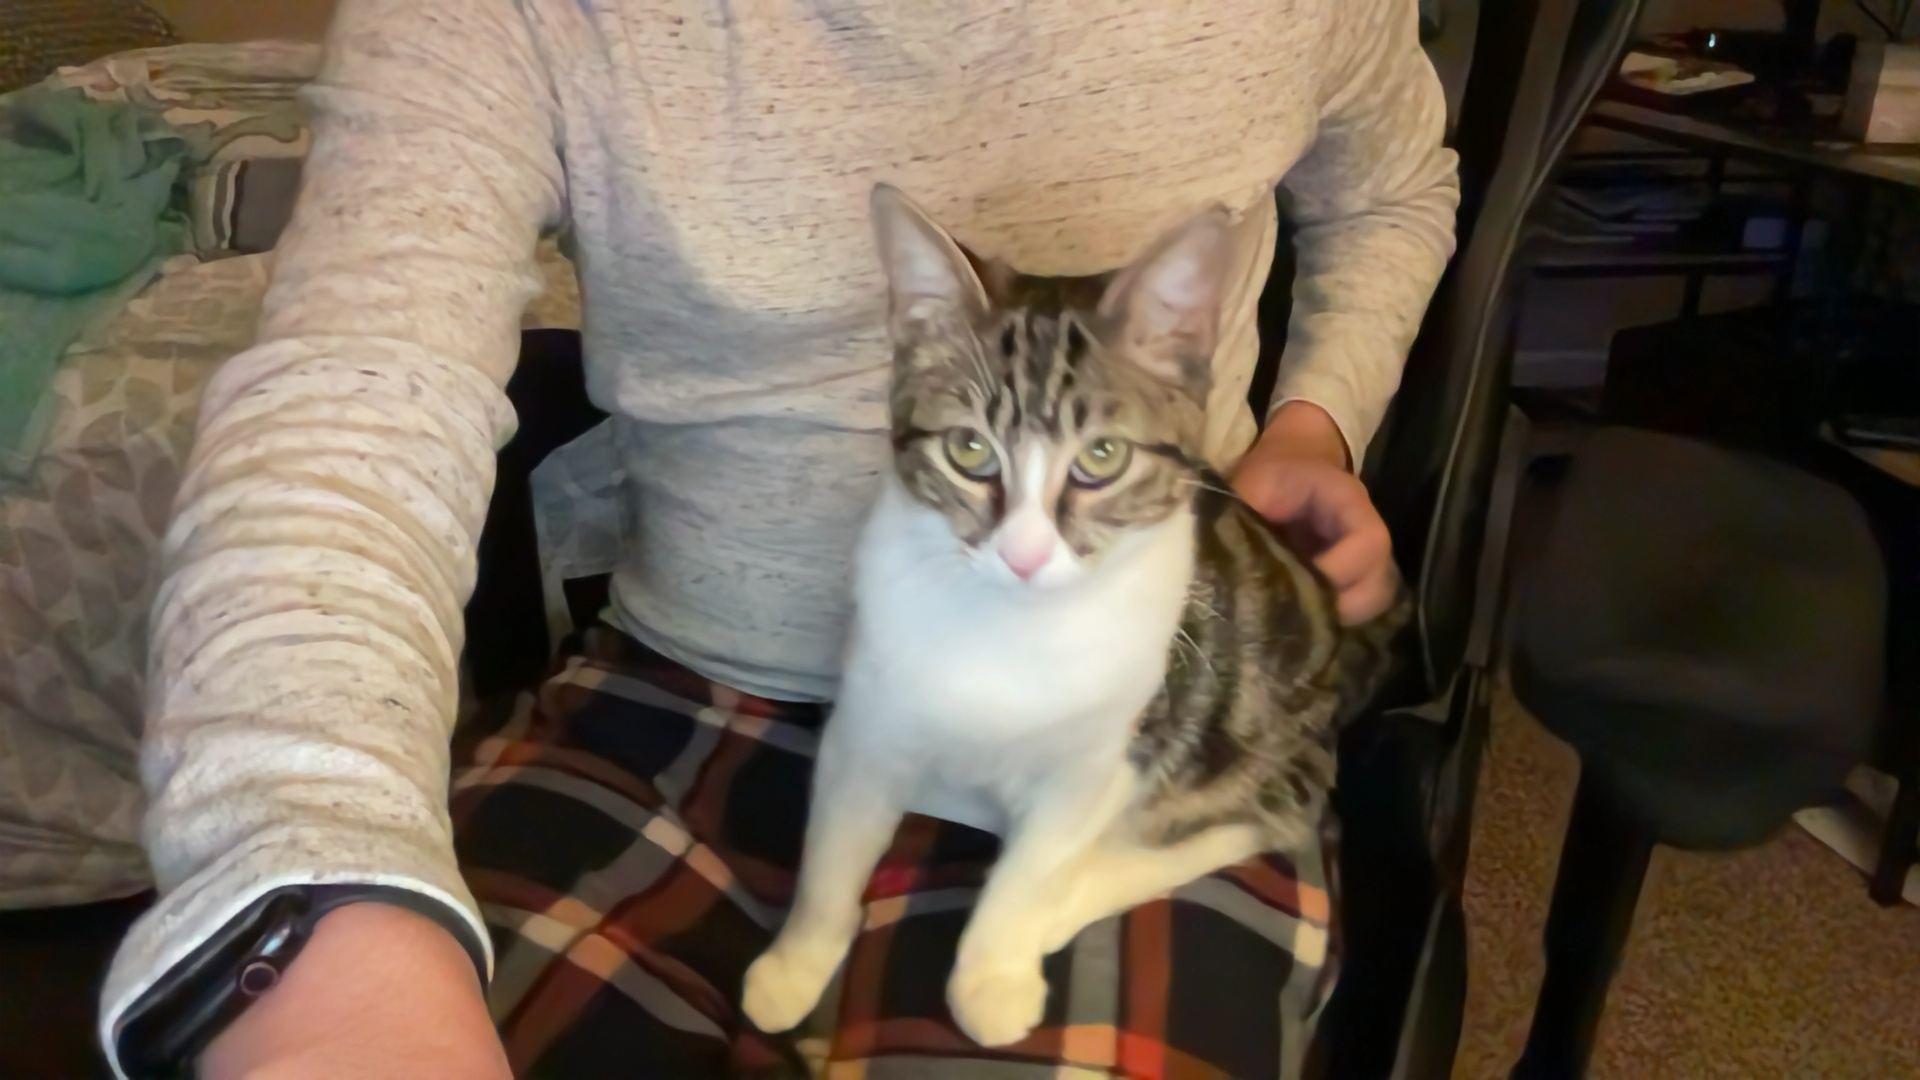cat: (717, 156, 1375, 1040)
